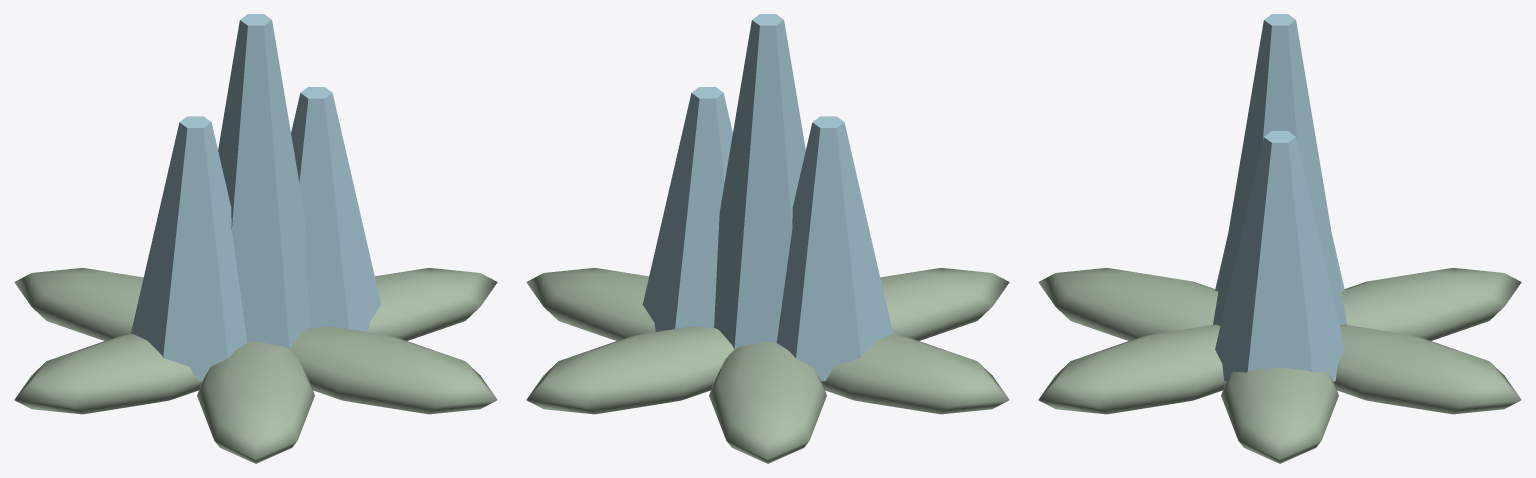
Rendered from farm-crop-2.glb.
3 renders of one model, left to right at view 1: azimuth 30°, elevation 25°; view 2: azimuth 150°, elevation 25°; view 3: azimuth 270°, elevation 25°, orthographic.
Parts seen in each view (by area): view 1: leaf; view 2: leaf; view 3: leaf.
Boxes of the visible parts, bbox=[...] form: leaf: bbox=[14, 14, 497, 463]; leaf: bbox=[526, 14, 1009, 463]; leaf: bbox=[1038, 14, 1521, 463].
Bounding box in the file's own units: 1.04 × 0.715 × 0.9007.
